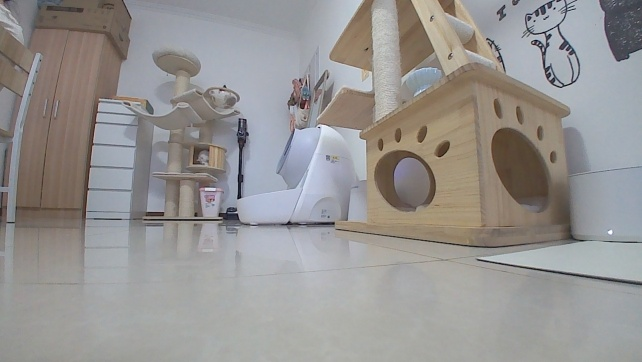blanket: (473, 237, 641, 286)
